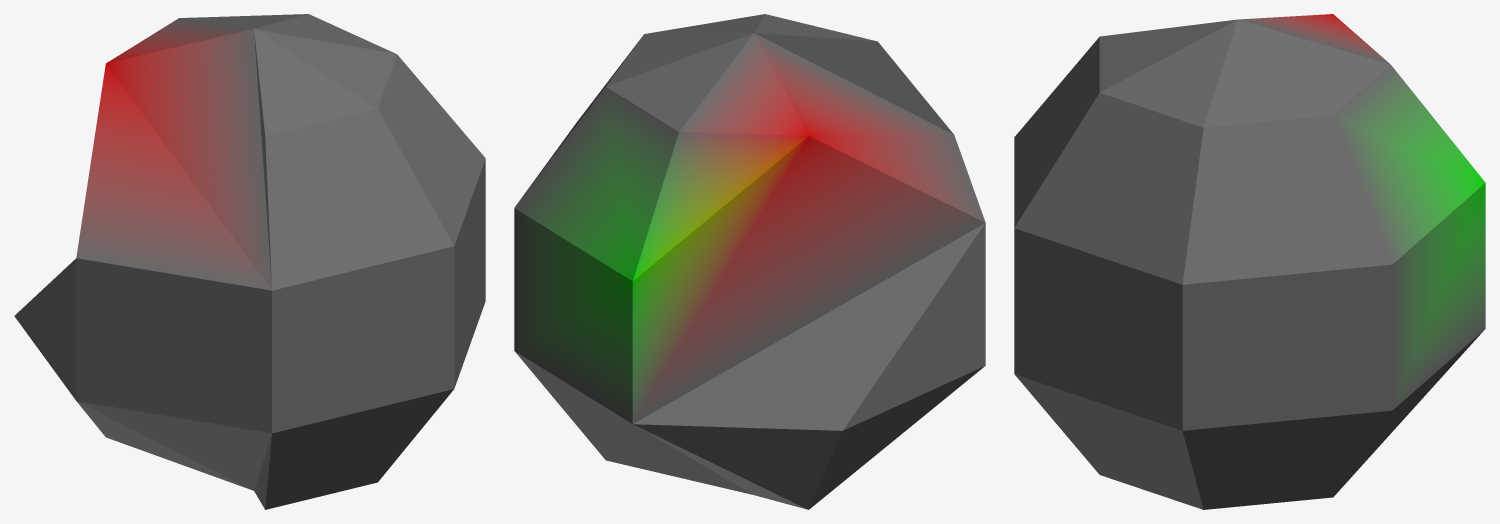
File: re_decimating_conquest_9_before.obj
3 views of the same model, side by side, from view 1: azimuth 30°, elevation 25°; view 2: azimuth 150°, elevation 25°; view 3: azimuth 270°, elevation 25° (orthographic). The views are drawn at different scales.
Bounding box in the file's own units: 1.85 × 2 × 1.81.
